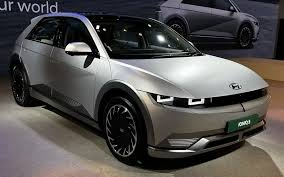Honda Ioniq: (7, 8, 276, 165)
